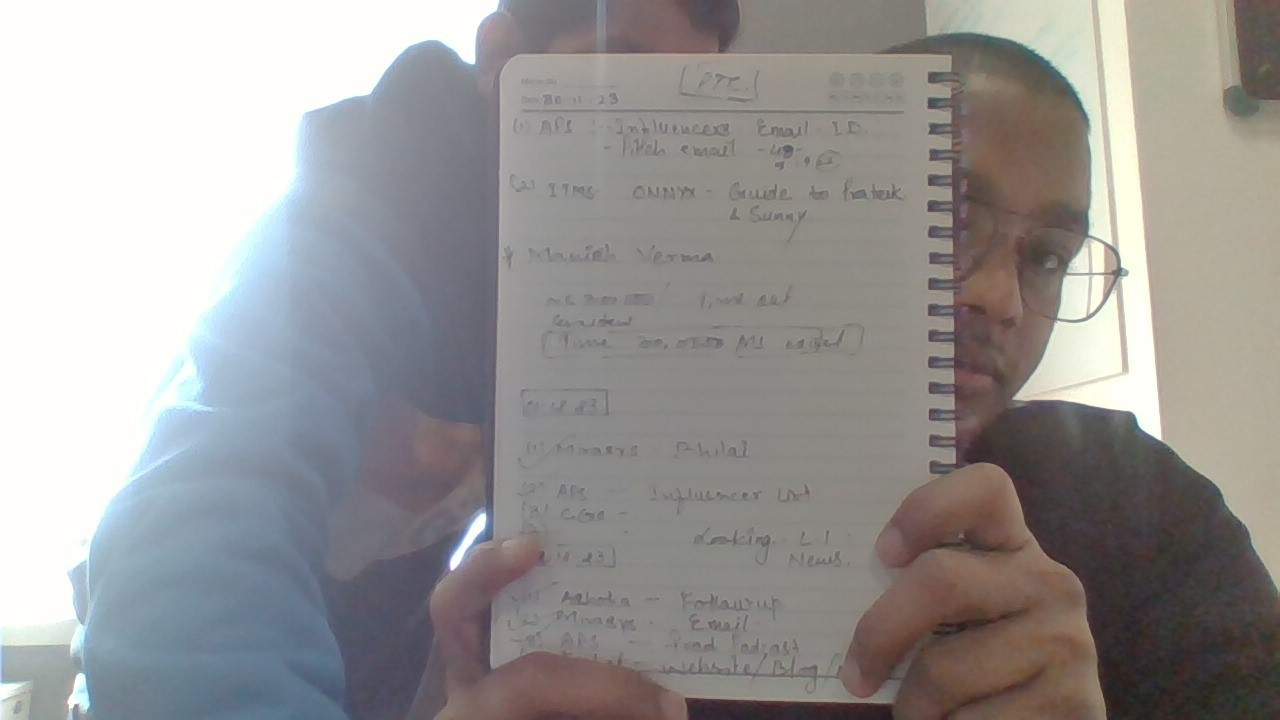notebook: (481, 44, 979, 716)
